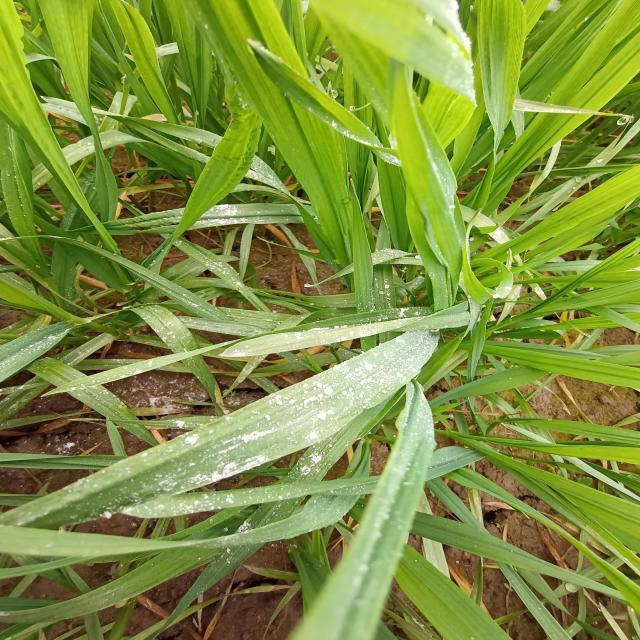Powdery Mildew: (21, 224, 463, 640)
